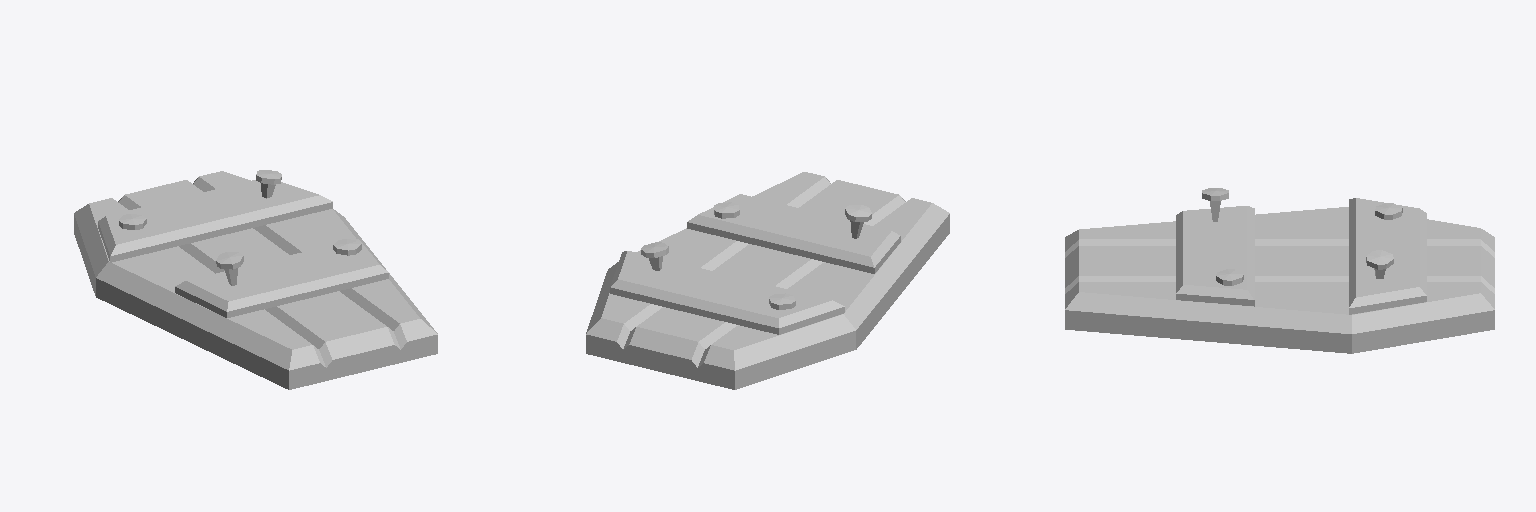
File: coffin_lid.obj
3 renders of one model, left to right at view 1: azimuth 30°, elevation 25°; view 2: azimuth 150°, elevation 25°; view 3: azimuth 270°, elevation 25°, orthographic.
Parts seen in each view (by area): view 1: coffin_lid_Cube.119; view 2: coffin_lid_Cube.119; view 3: coffin_lid_Cube.119.
Boxes of the visible parts, x1,y1,x2,y2 form: coffin_lid_Cube.119: [74, 170, 437, 389]; coffin_lid_Cube.119: [586, 172, 949, 389]; coffin_lid_Cube.119: [1065, 188, 1494, 353].
Size of the model in its own units: 2 by 0.5724 by 3.